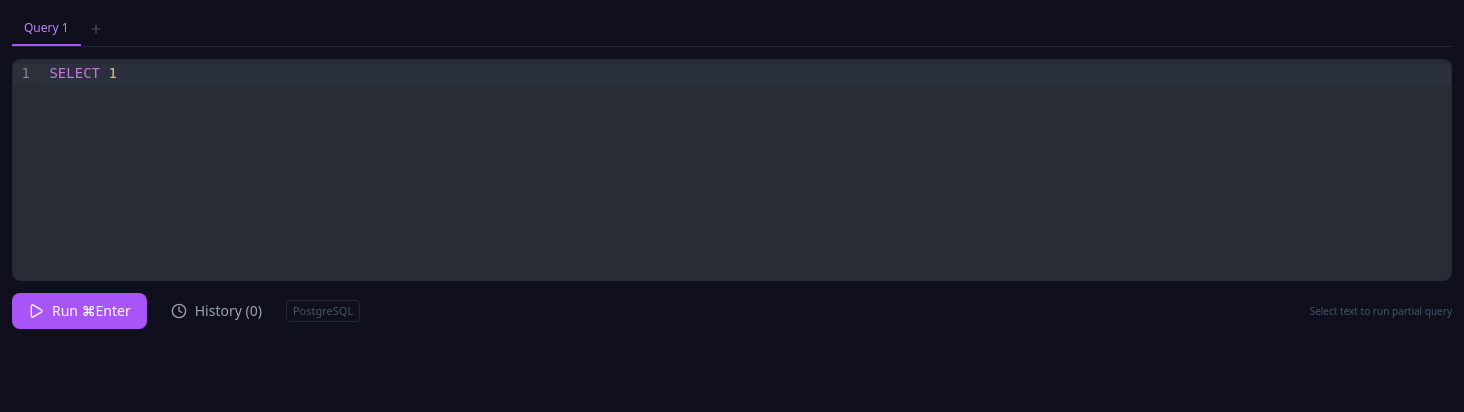
SqlEditorPage › a query that never reaches the server says so
Click the button with test id "run-query-btn": (79, 311) [12,293,147,329]
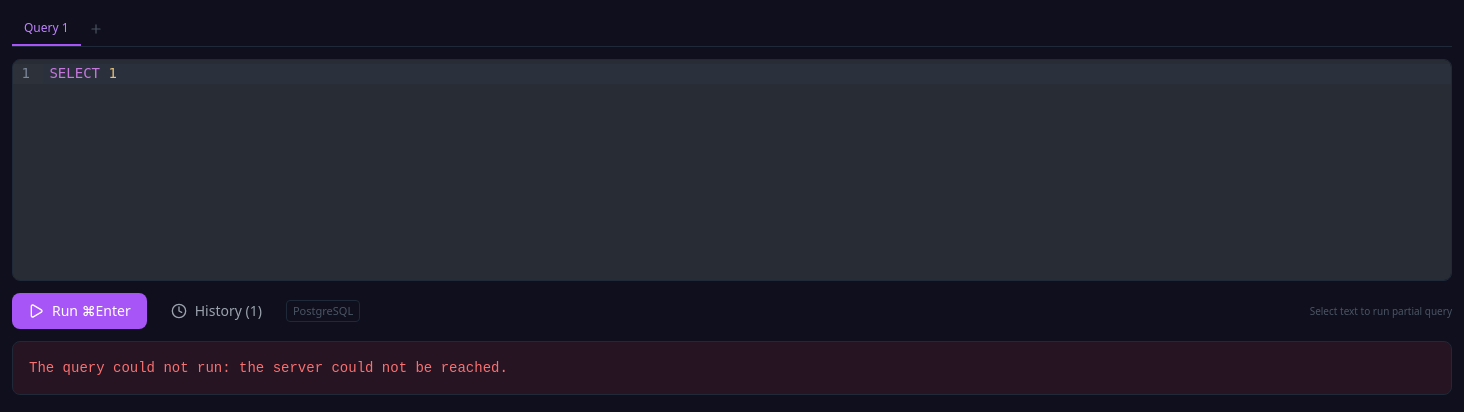
expect the text with test id "query-error" reads "The query could not run: the server could not be reached.": met, box [29,360,508,376]
